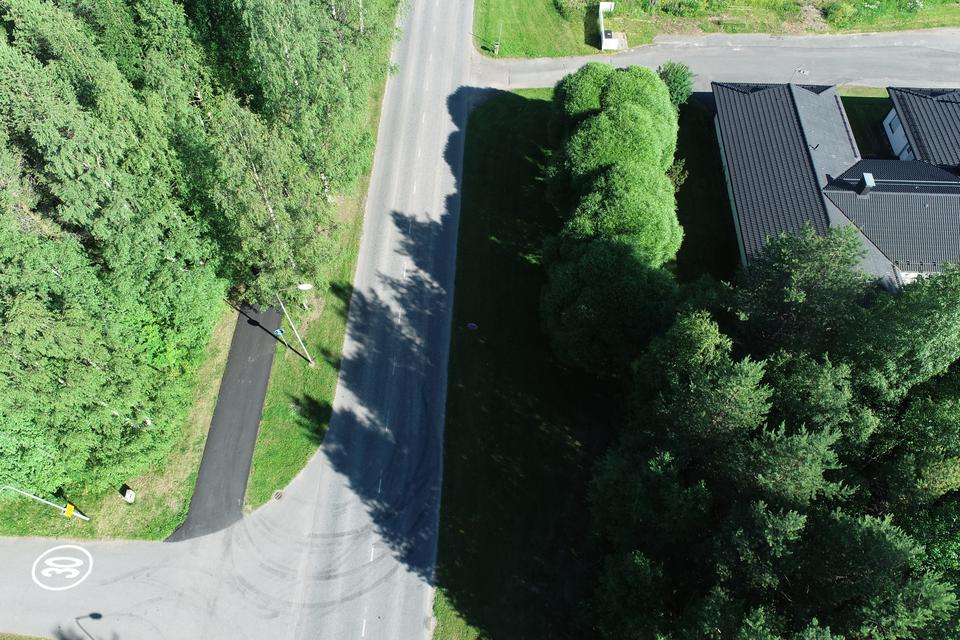intersection: (135, 453, 477, 640), (356, 7, 532, 124)
